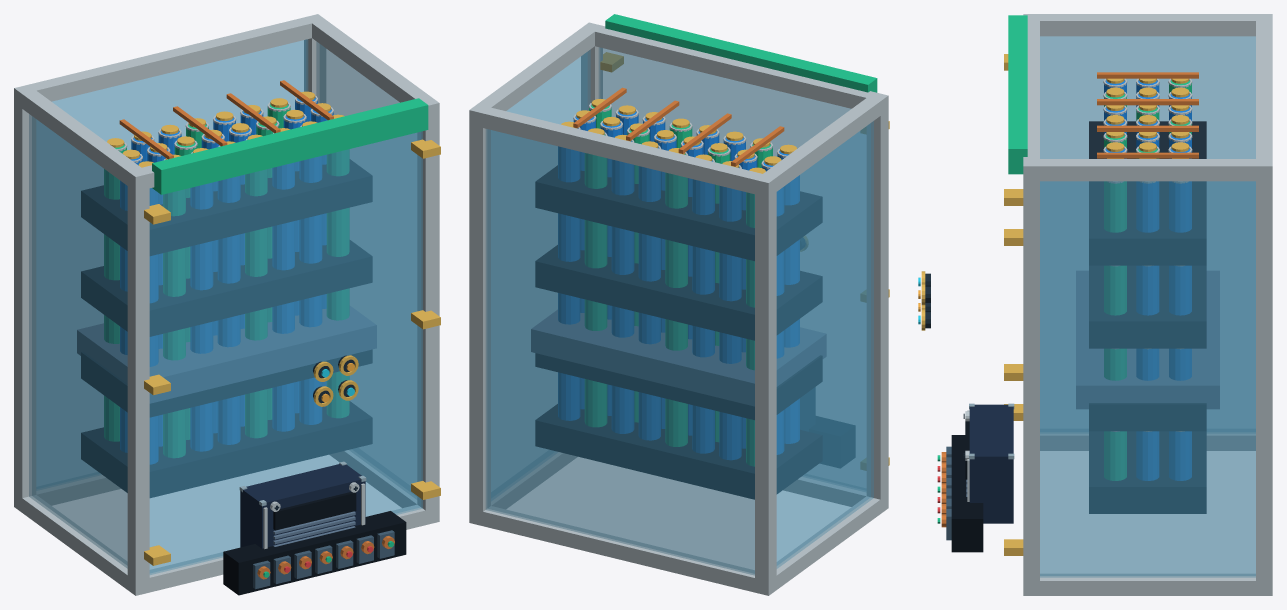
File: 35_L83_BatteryPackB.fbx
3 views of the same model, side by side, from view 1: azimuth 30°, elevation 25°; view 2: azimuth 150°, elevation 25°; view 3: azimuth 270°, elevation 25° (orthographic). The views are drawn at different scales.
Visible parts, largest first — view 1: BatteryPackB, BatteryPackB_Part_0399; view 2: BatteryPackB, BatteryPackB_Part_0399; view 3: BatteryPackB, BatteryPackB_Part_0399.
Boxes of the visible parts, x1,y1,x2,y2 form: BatteryPackB: (14, 14, 440, 595); BatteryPackB_Part_0399: (77, 306, 376, 403); BatteryPackB: (469, 14, 889, 595); BatteryPackB_Part_0399: (531, 310, 826, 406); BatteryPackB: (918, 14, 1272, 595); BatteryPackB_Part_0399: (1076, 271, 1219, 408).
Bounding box in the file's own units: 205 × 275 × 202.
